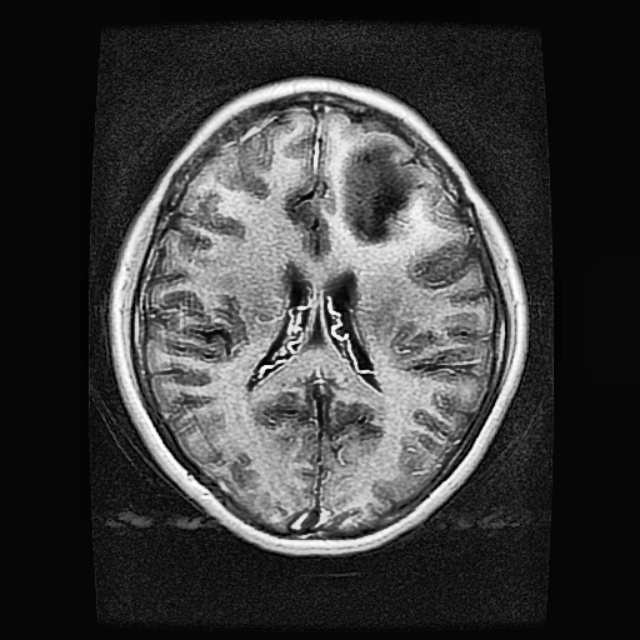Glioma: (337, 135, 418, 247)
